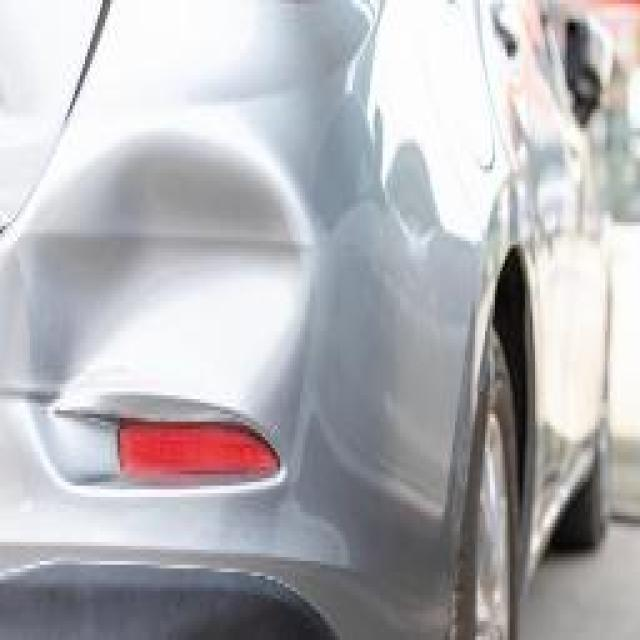Bumper: (8, 124, 392, 538)
